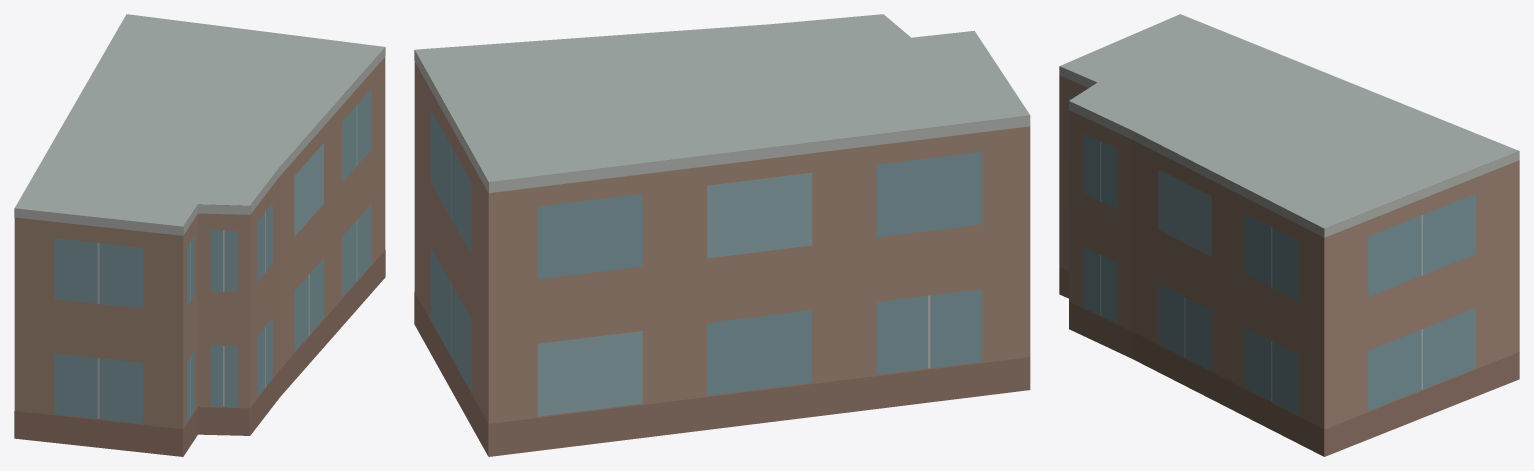
The model's file is survey-upis-33026815.glb.
3 renders of one model, left to right at view 1: azimuth 30°, elevation 25°; view 2: azimuth 150°, elevation 25°; view 3: azimuth 270°, elevation 25°, orthographic. The views are drawn at different scales.
Parts seen in each view (by area): view 1: survey-upis-33026815.tmp; view 2: survey-upis-33026815.tmp; view 3: survey-upis-33026815.tmp.
Part boxes in pixels (bbox=[...]): survey-upis-33026815.tmp: bbox=[14, 14, 385, 456]; survey-upis-33026815.tmp: bbox=[414, 14, 1030, 456]; survey-upis-33026815.tmp: bbox=[1059, 14, 1519, 456].
Size of the model in its own units: 12.31 by 6.1 by 11.15.
